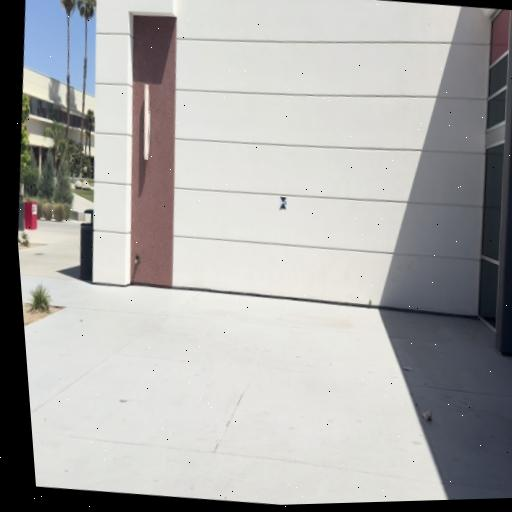target0: (279, 196, 289, 210)
